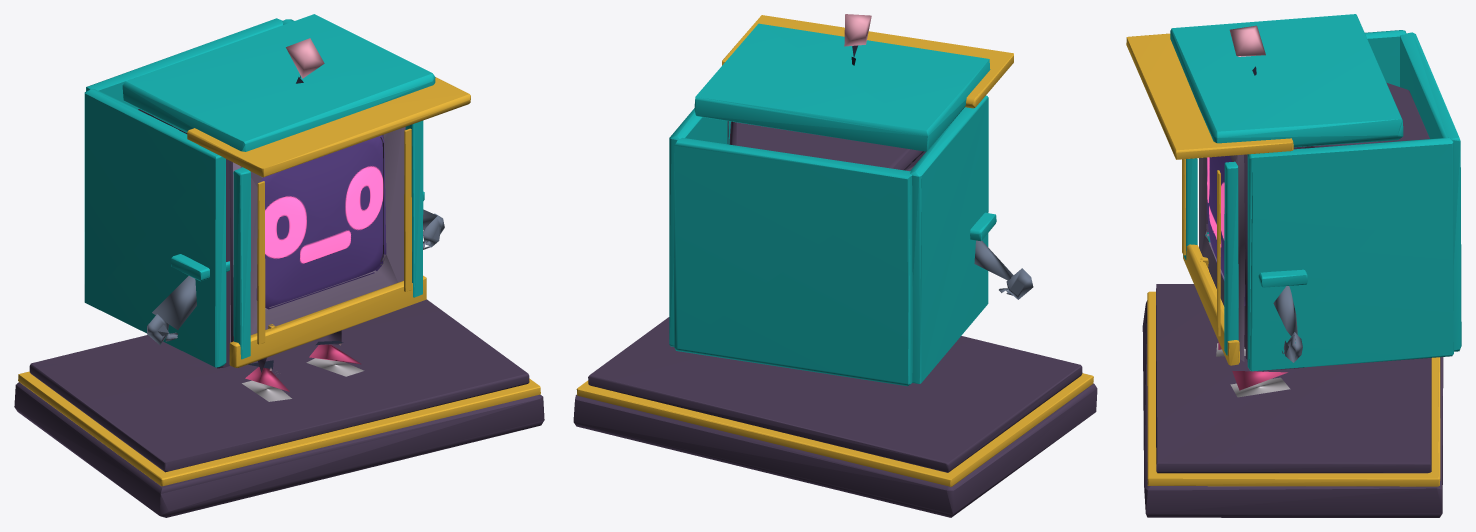
Rendered from kart.outfit.pit-crew.lod1.glb.
3 views of the same model, side by side, from view 1: azimuth 30°, elevation 25°; view 2: azimuth 150°, elevation 25°; view 3: azimuth 270°, elevation 25° (orthographic). The views are drawn at different scales.
Parts seen in each view (by area): view 1: display_top, jacket_side.001, visor_crown, display_base, stand_identity_face, emi_teacup_mesh, brass_band, cap_brim, waist_band, front_open_edge.001, front_open_edge, jacket_back (+3 smaller); view 2: jacket_back, display_top, visor_crown, display_base, jacket_side.001, brass_band, emi_teacup_mesh, cap_brim, jacket_side; view 3: jacket_side, display_top, visor_crown, display_base, emi_teacup_mesh, brass_band, cap_brim, jacket_back, front_open_edge, waist_band, stand_identity_face, jacket_side.001 (+3 smaller).
Part boxes in pixels (x1,y1,x2,y2): display_top: (29, 299, 529, 472); jacket_side.001: (84, 89, 226, 367); visor_crown: (122, 14, 435, 151); display_base: (14, 382, 544, 517); stand_identity_face: (256, 135, 386, 309); emi_teacup_mesh: (138, 38, 444, 401); brass_band: (18, 371, 540, 486); cap_brim: (187, 77, 470, 177); waist_band: (229, 275, 426, 367); front_open_edge.001: (233, 167, 250, 359); front_open_edge: (406, 120, 423, 297); jacket_back: (86, 18, 282, 109); jacket_back: (674, 138, 912, 386); display_top: (588, 317, 1082, 472); visor_crown: (694, 23, 990, 151); display_base: (573, 383, 1097, 517); jacket_side.001: (910, 95, 988, 383); brass_band: (576, 373, 1093, 486); emi_teacup_mesh: (727, 14, 1033, 299); cap_brim: (722, 15, 1013, 108); jacket_side: (669, 108, 730, 346); jacket_side: (1247, 137, 1453, 371); display_top: (1156, 284, 1431, 473); visor_crown: (1170, 14, 1403, 147); display_base: (1142, 300, 1443, 517); emi_teacup_mesh: (1199, 25, 1429, 397); brass_band: (1147, 291, 1440, 486); cap_brim: (1126, 33, 1293, 159); jacket_back: (1400, 32, 1461, 351); front_open_edge: (1224, 161, 1238, 355); waist_band: (1183, 244, 1239, 365); stand_identity_face: (1207, 156, 1245, 305); jacket_side.001: (1205, 30, 1405, 242).
Bounding box in the file's own units: 0.642 × 0.6301 × 0.4794.
4 materials, 2 textured.
